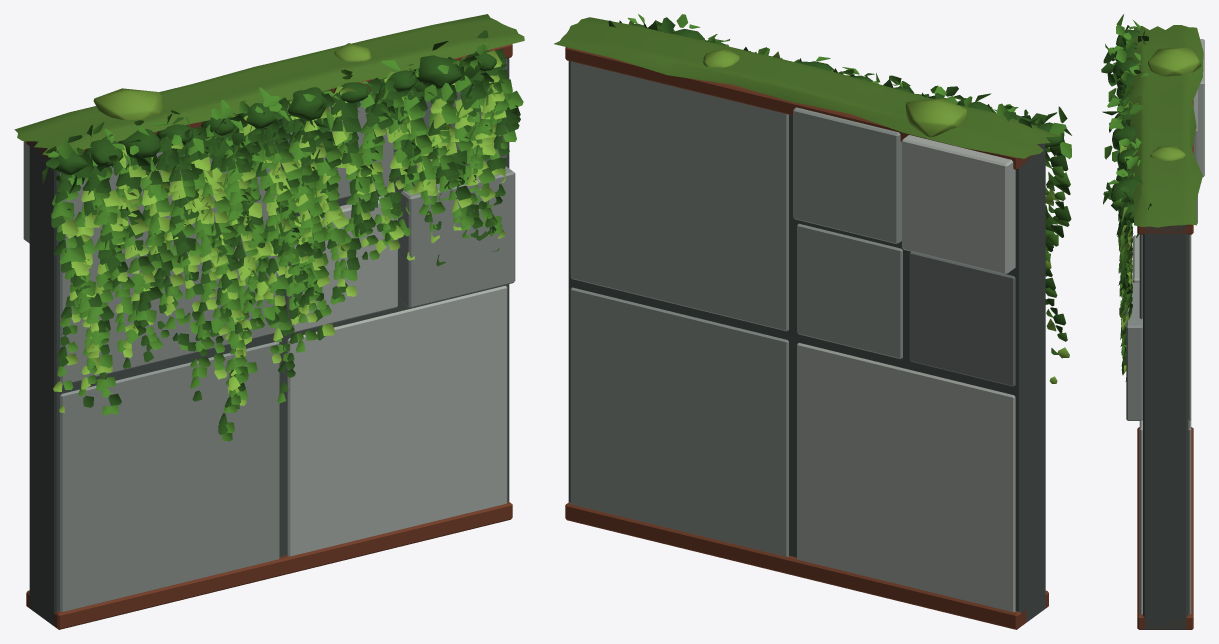
File: RUIN_WALL_Overgrown_4x4.glb
3 views of the same model, side by side, from view 1: azimuth 30°, elevation 25°; view 2: azimuth 150°, elevation 25°; view 3: azimuth 270°, elevation 25° (orthographic). The views are drawn at different scales.
Parts seen in each view (by area): view 1: RUIN_WALL_Overgrown_4x4; view 2: RUIN_WALL_Overgrown_4x4; view 3: RUIN_WALL_Overgrown_4x4.
Part boxes in pixels (x1=…): RUIN_WALL_Overgrown_4x4: x1=14, y1=14, x2=524, y2=629; RUIN_WALL_Overgrown_4x4: x1=554, y1=14, x2=1071, y2=629; RUIN_WALL_Overgrown_4x4: x1=1101, y1=14, x2=1204, y2=629.
Bounding box in the file's own units: 4.29 × 4.21 × 0.9228.
